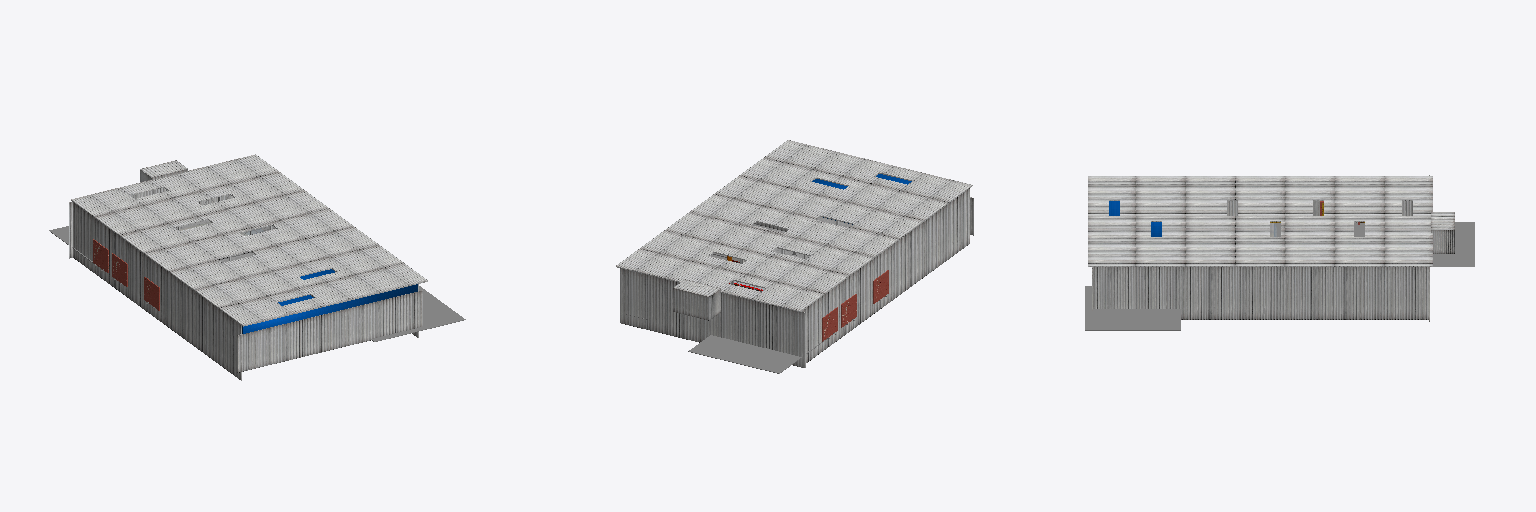
3 views of the same model, side by side, from view 1: azimuth 30°, elevation 25°; view 2: azimuth 150°, elevation 25°; view 3: azimuth 270°, elevation 25° (orthographic).
Parts seen in each view (by area): view 1: Box021, Box022, Box024, Box141, Box093, Box148; view 2: Box021, Box022, Box025, Box093, Box148; view 3: Box021, Box023, Box093, Box148.
Boxes of the visible parts, box(x1,y1,x2,y2) form: Box021: box(71, 154, 427, 326); Box022: box(73, 202, 241, 380); Box024: box(237, 290, 422, 372); Box141: box(242, 269, 417, 333); Box093: box(49, 226, 465, 341); Box148: box(140, 160, 187, 181); Box021: box(616, 140, 972, 311); Box022: box(803, 189, 969, 362); Box025: box(620, 268, 805, 367); Box093: box(688, 335, 826, 373); Box148: box(673, 279, 720, 320); Box021: box(1088, 176, 1432, 266); Box023: box(1093, 267, 1428, 319); Box093: box(1085, 222, 1474, 330); Box148: box(1431, 212, 1454, 253).
Bounding box in the file's own units: 38.39 × 9.81 × 57.95.
10 materials, 8 textured.